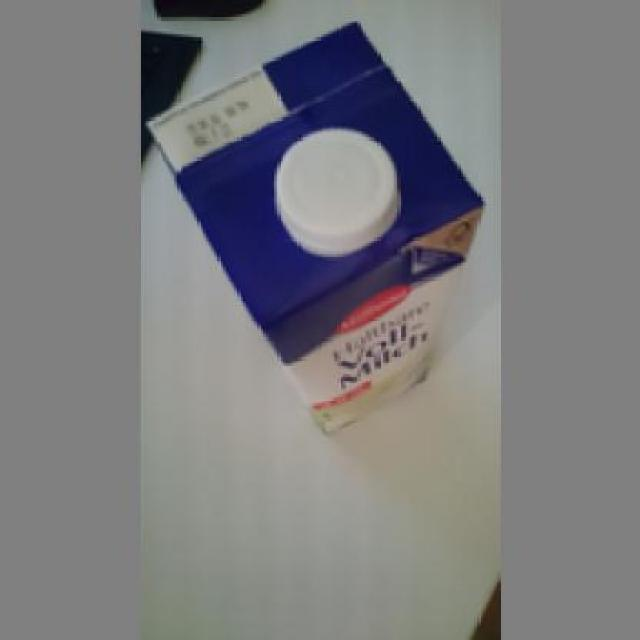Milk: (137, 20, 500, 437)
